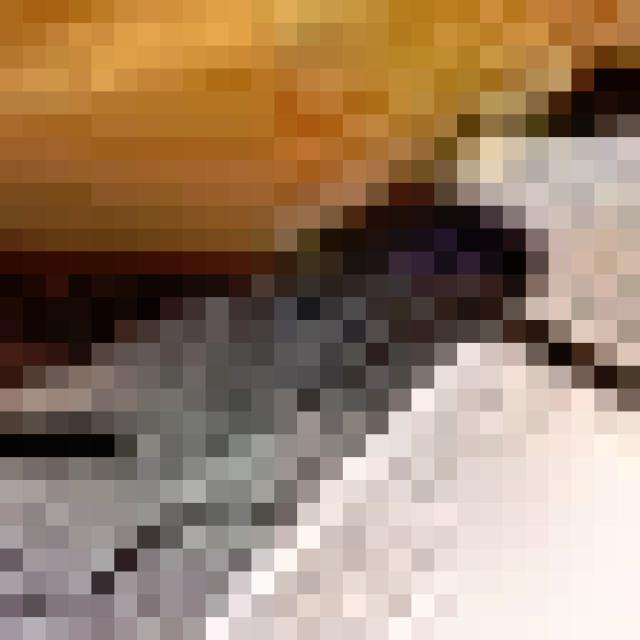arms: (199, 138, 640, 640)
